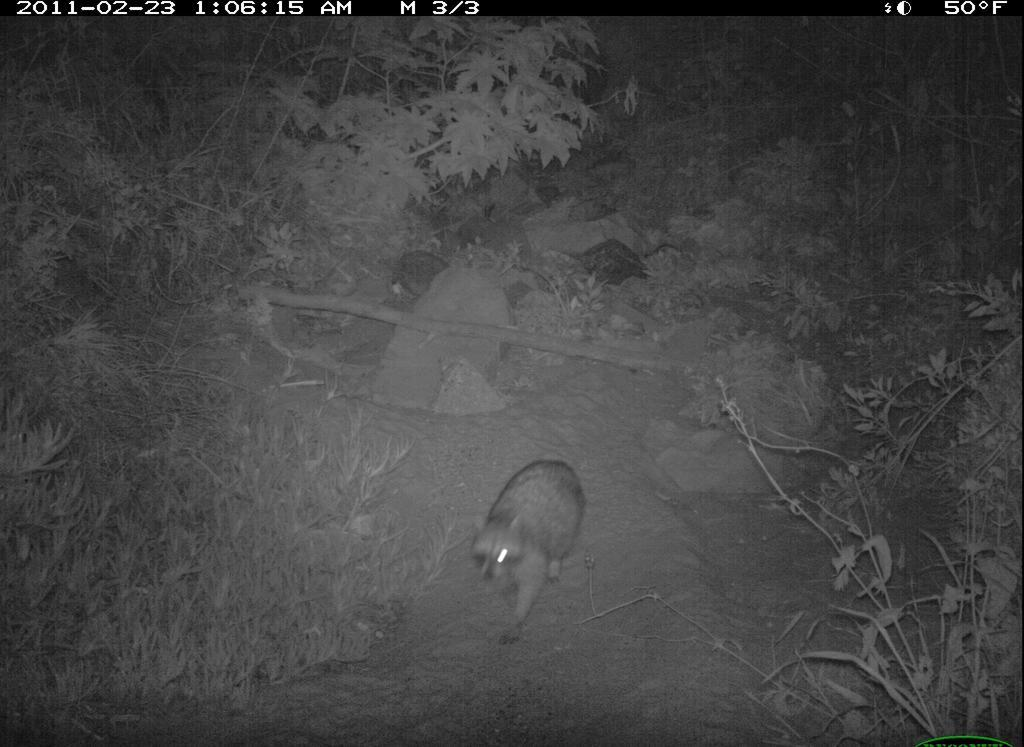raccoon: (465, 457, 588, 648)
